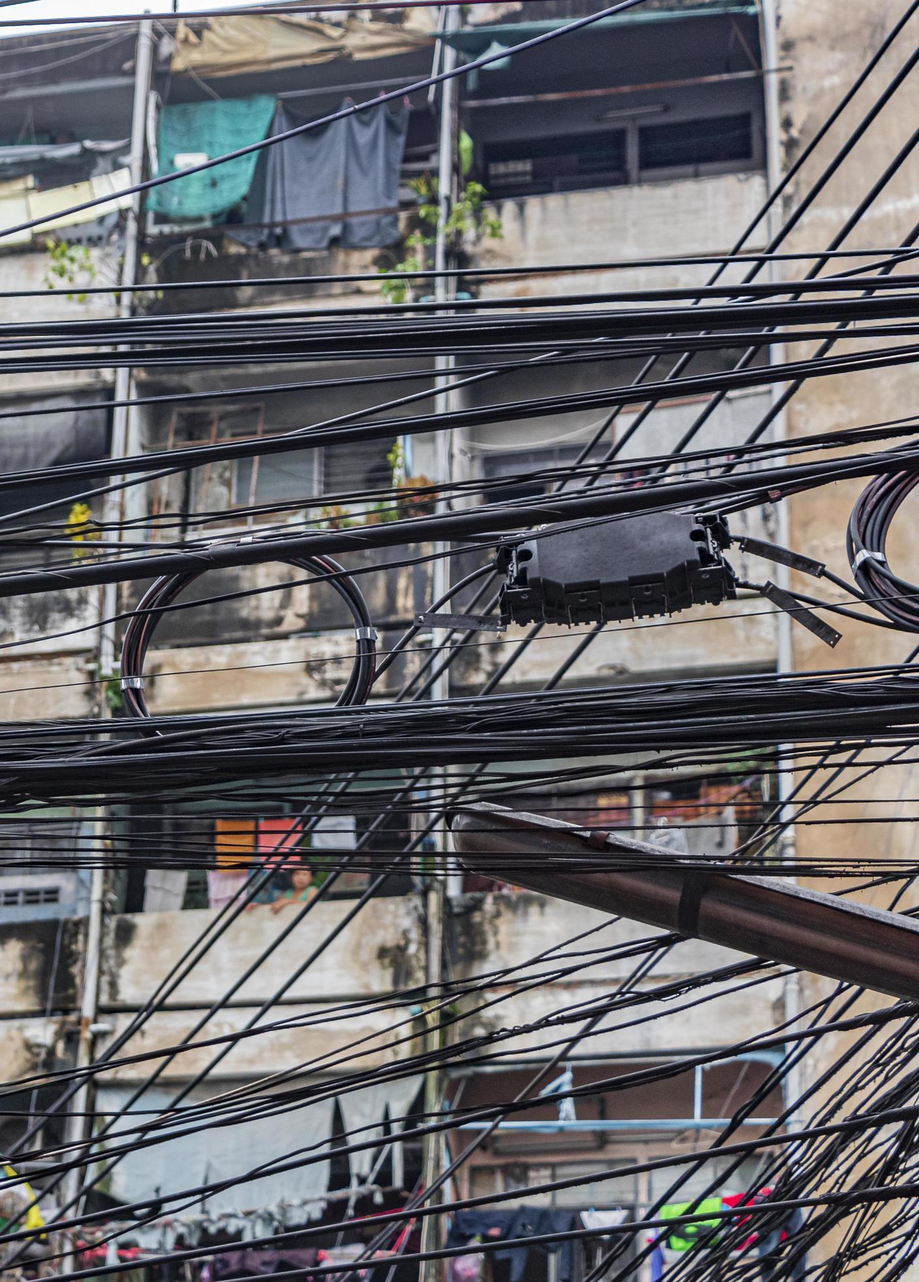wires-only: (21, 458, 919, 690), (0, 278, 912, 425), (1, 687, 919, 818)
